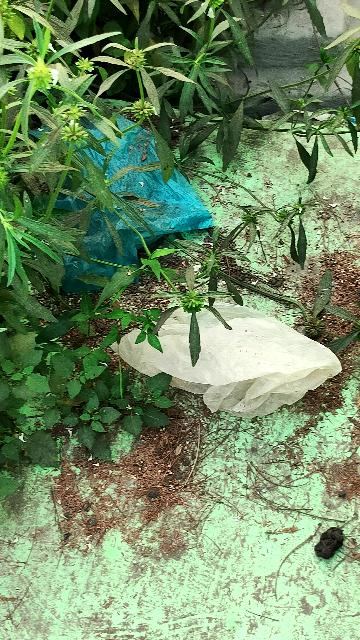polythene: (111, 298, 341, 414)
